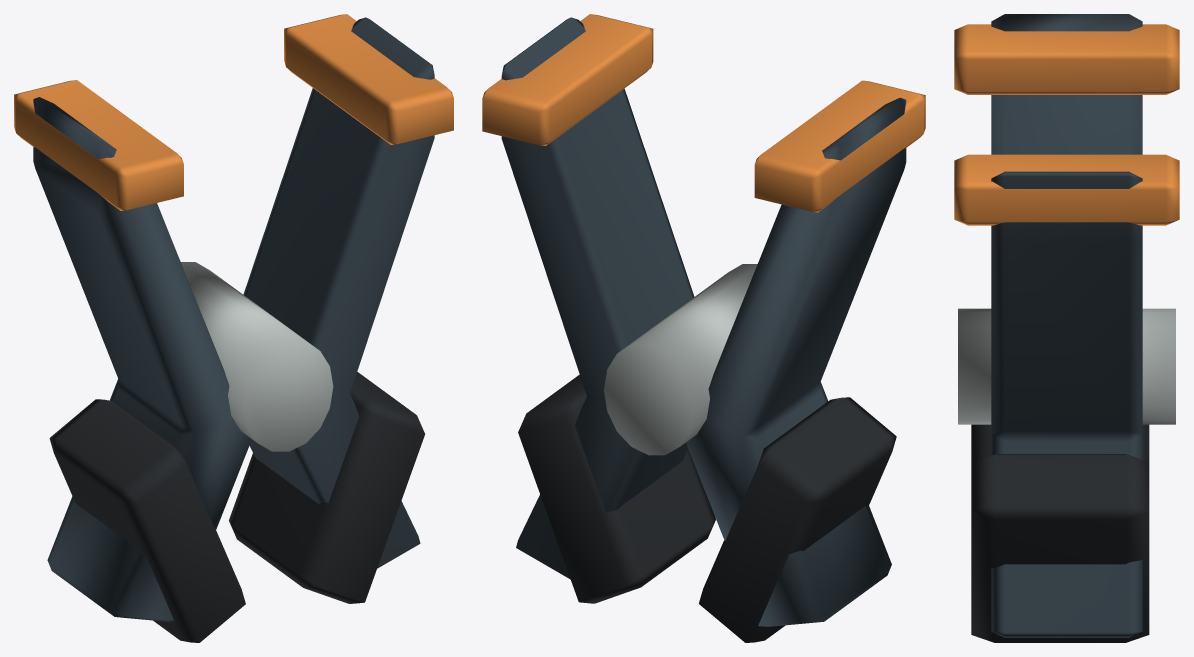
Rendered from P080_spring_clamp_rebuilt.glb.
3 views of the same model, side by side, from view 1: azimuth 30°, elevation 25°; view 2: azimuth 150°, elevation 25°; view 3: azimuth 270°, elevation 25° (orthographic).
Visible parts, largest first — view 1: shell, rubber, orange, silver; view 2: shell, rubber, orange, silver; view 3: shell, orange, rubber, silver.
Part boxes in pixels (box(x1,y1,x2,y2)): shell: box(33, 17, 434, 621); rubber: box(49, 372, 425, 642); orange: box(14, 14, 453, 210); silver: box(181, 262, 333, 451); shell: box(501, 17, 906, 626); rubber: box(518, 374, 896, 642); orange: box(482, 14, 925, 212); silver: box(604, 264, 757, 455); shell: box(991, 14, 1142, 637); orange: box(954, 24, 1179, 225); rubber: box(971, 424, 1149, 642); silver: box(958, 308, 1175, 424).
Bounding box in the file's own units: 0.1459 × 0.2144 × 0.0855.
